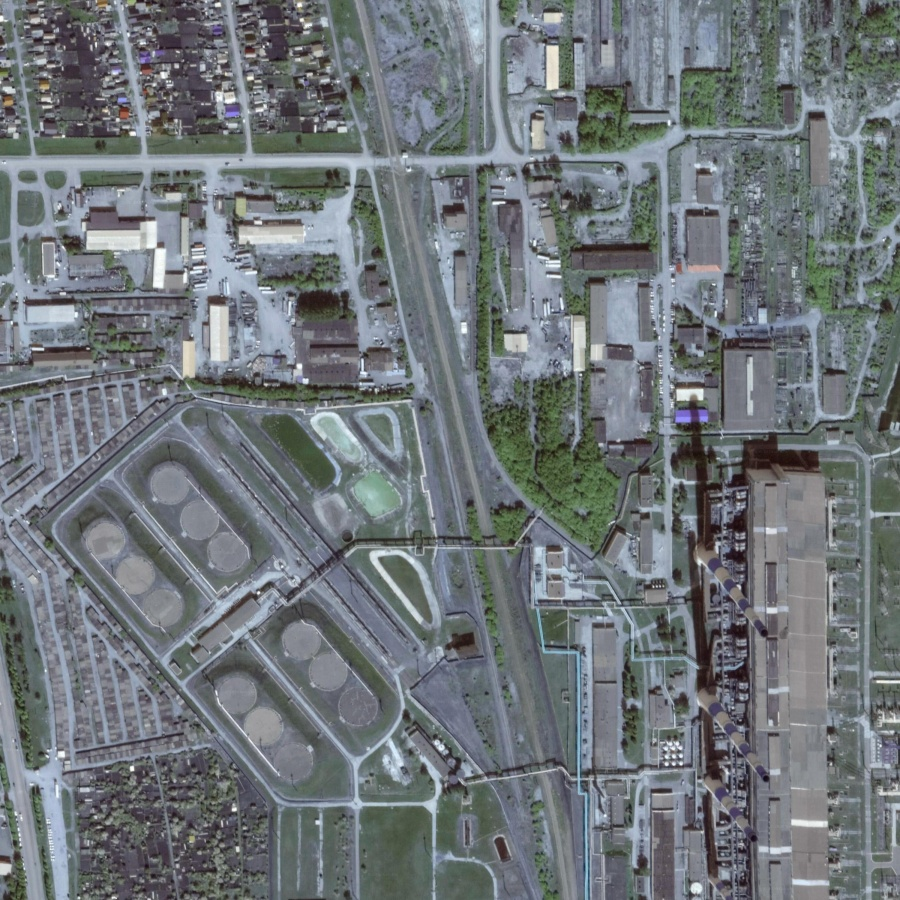PowerPlant: (67, 425, 400, 791)
